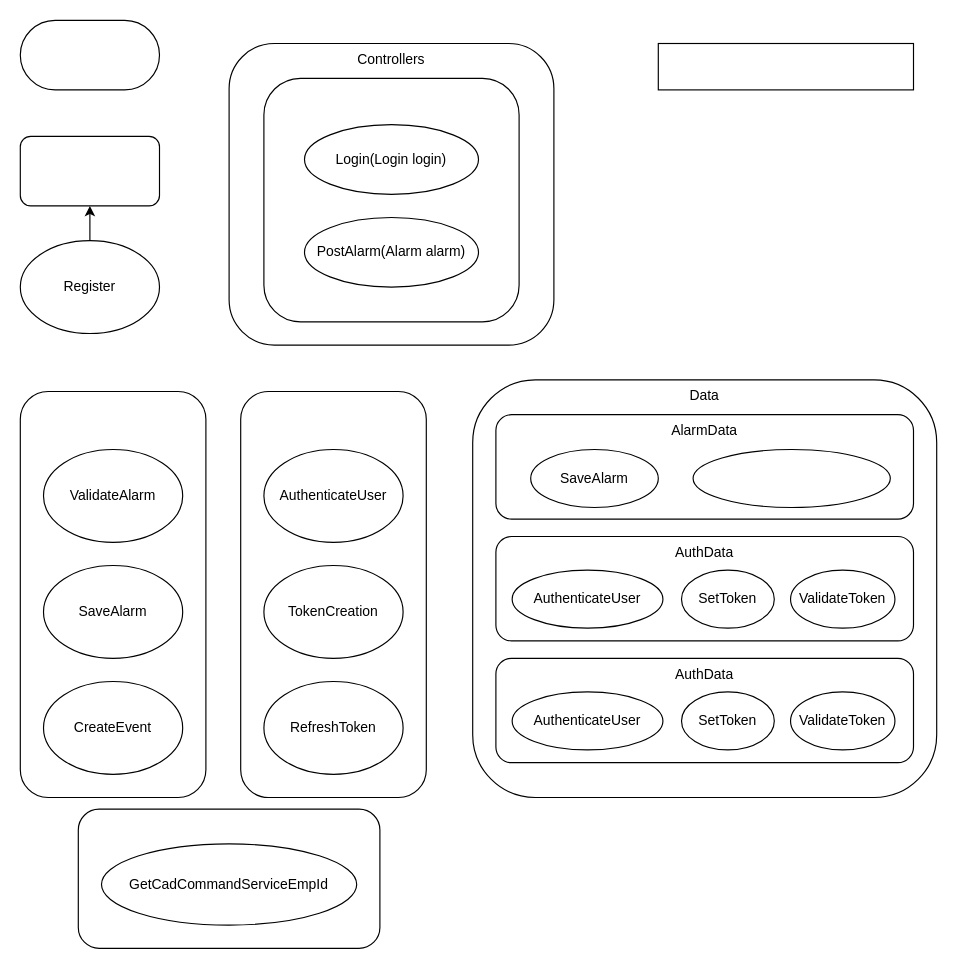
Some shapes in this 957 by 969 pixel diagram are drawn without their labels. Each missing label, with the box of its shape:
AlarmBusiness: (19, 390, 206, 798)
AlarmController: (263, 77, 519, 322)
AuthBusiness: (240, 390, 426, 798)
ConfigurationBusiness: (77, 808, 380, 948)
ConfigurationManager: (657, 42, 913, 90)
UpdateStatusAlarm: (692, 448, 890, 507)
Web.config: (19, 19, 160, 90)
WebApiConfig: (19, 135, 160, 206)
